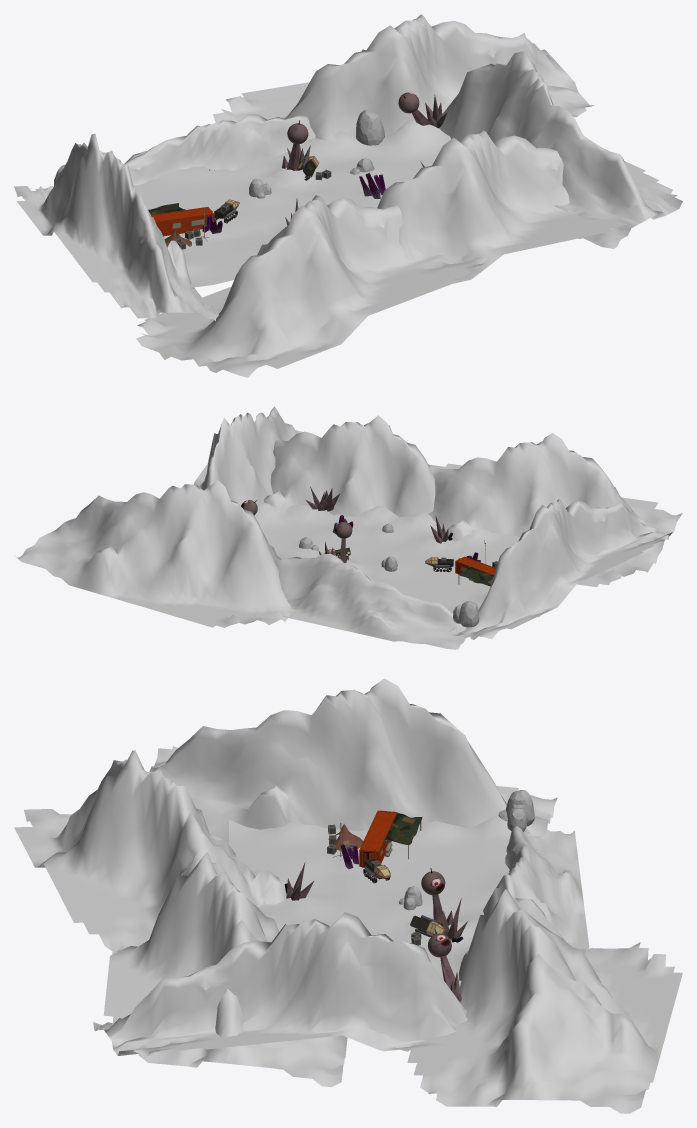
The model's file is old_army_terrain.fbx.
The picture shows the model from 3 angles, top to bottom: view 1: azimuth 30°, elevation 25°; view 2: azimuth 150°, elevation 25°; view 3: azimuth 270°, elevation 25°; orthographic projection. The views are drawn at different scales.
Parts seen in each view (by area): view 1: mountain_low_6, mountain_low_4, mountain_low_3, groundplane, mountain_low, mountain_low_8, mountain_low_7, oldBuilding_uv:old_big_building_low, rock_low4, eye_spike_uv:spike_eye; view 2: mountain_low_3, mountain_low_6, mountain_low, groundplane, mountain_low_4, mountain_low_7, mountain_low_8, oldBuilding_uv:old_big_building_low, rock_low1, eye_spike_uv:spike_eye; view 3: mountain_low_3, mountain_low, mountain_low_8, mountain_low_6, groundplane, mountain_low_4, mountain_low_7, oldBuilding_uv:old_big_building_low, rock_low1, eye_spike_uv:spike_eye, spike_eye.
Part boxes in pixels (x1,y1,x2,y2): mountain_low_6: (136,195,486,377); mountain_low_4: (377,130,626,283); mountain_low_3: (213,14,593,141); groundplane: (133,119,450,287); mountain_low: (14,133,218,320); mountain_low_8: (439,51,682,248); mountain_low_7: (35,114,315,191); oldBuilding_uv:old_big_building_low: (148,203,214,236); rock_low4: (356,110,384,145); eye_spike_uv:spike_eye: (282,120,308,170); mountain_low_3: (14,479,299,627); mountain_low_6: (428,433,682,587); mountain_low: (434,499,672,639); groundplane: (254,502,520,613); mountain_low_4: (264,415,435,517); mountain_low_7: (274,553,466,649); mountain_low_8: (194,406,302,506); oldBuilding_uv:old_big_building_low: (455,556,495,586); rock_low1: (453,601,479,627); eye_spike_uv:spike_eye: (335,518,352,562); mountain_low_3: (407,889,682,1113); mountain_low: (149,678,557,849); mountain_low_8: (93,912,467,1056); mountain_low_6: (14,750,285,952); groundplane: (229,814,511,987); mountain_low_4: (103,852,347,1087); mountain_low_7: (483,825,589,951); oldBuilding_uv:old_big_building_low: (359,810,422,867); rock_low1: (498,790,534,831); eye_spike_uv:spike_eye: (421,868,452,926); spike_eye: (428,929,455,984).
Bounding box in the file's own units: 45.17 × 10.16 × 37.92.
